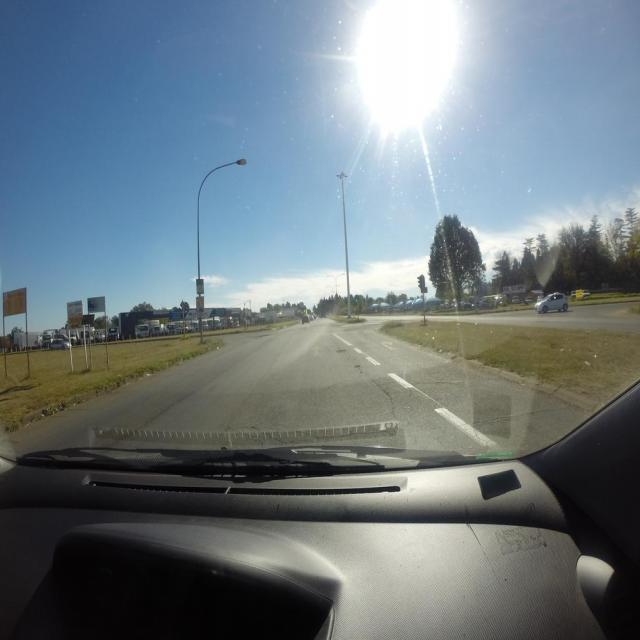pothole: (336, 350, 346, 353), (356, 365, 361, 368)
